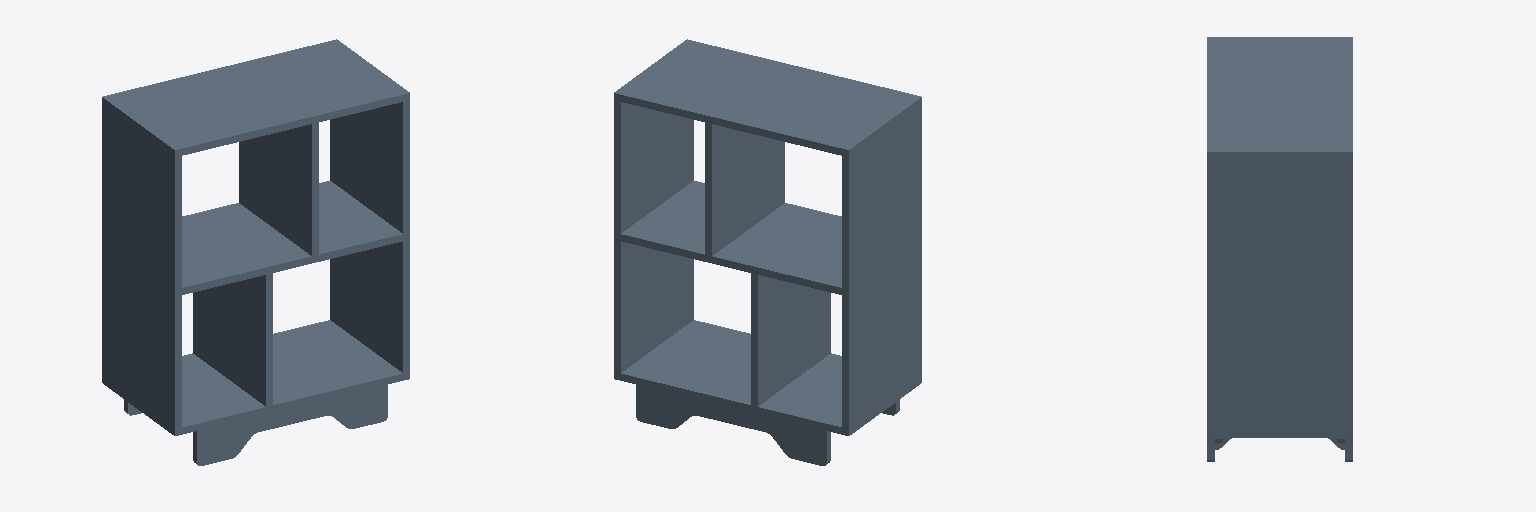
File: the_rory.obj
3 views of the same model, side by side, from view 1: azimuth 30°, elevation 25°; view 2: azimuth 150°, elevation 25°; view 3: azimuth 270°, elevation 25° (orthographic).
Parts seen in each view (by area): view 1: Body1; view 2: Body1; view 3: Body1.
Part boxes in pixels (x1,y1,x2,y2): Body1: (102,39,409,465); Body1: (614,39,921,465); Body1: (1207,37,1352,461).
Size of the model in its own units: 61.82 by 80.91 by 33.32.